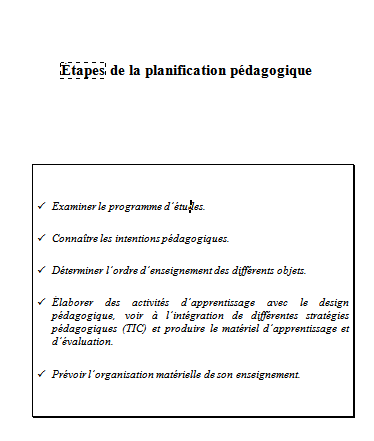texte: (106, 266, 306, 276), (164, 224, 233, 252), (166, 311, 349, 321), (52, 234, 229, 244), (92, 360, 153, 388), (52, 257, 102, 285), (111, 192, 160, 220), (249, 302, 298, 330), (52, 192, 100, 220), (164, 192, 209, 220), (115, 224, 160, 252), (307, 302, 352, 330), (157, 360, 202, 388), (232, 257, 275, 285), (230, 65, 312, 78), (145, 65, 226, 78), (52, 360, 86, 388), (278, 257, 310, 285), (181, 298, 255, 308), (263, 324, 337, 334), (123, 302, 147, 330), (50, 324, 117, 334), (50, 311, 115, 321), (236, 372, 300, 380), (52, 337, 113, 345), (319, 298, 349, 313), (213, 257, 228, 285), (163, 324, 205, 334), (232, 302, 245, 330), (50, 298, 94, 306), (132, 298, 169, 306), (222, 324, 259, 332), (101, 224, 111, 252), (122, 324, 146, 334), (204, 370, 233, 378), (153, 314, 161, 342), (110, 65, 125, 75), (105, 298, 120, 306), (129, 65, 140, 75), (267, 301, 288, 306), (300, 298, 308, 306), (210, 324, 218, 332), (38, 202, 46, 209), (38, 234, 46, 241), (38, 266, 46, 273), (38, 370, 46, 377), (341, 326, 350, 332), (38, 298, 44, 305), (153, 311, 156, 319)
